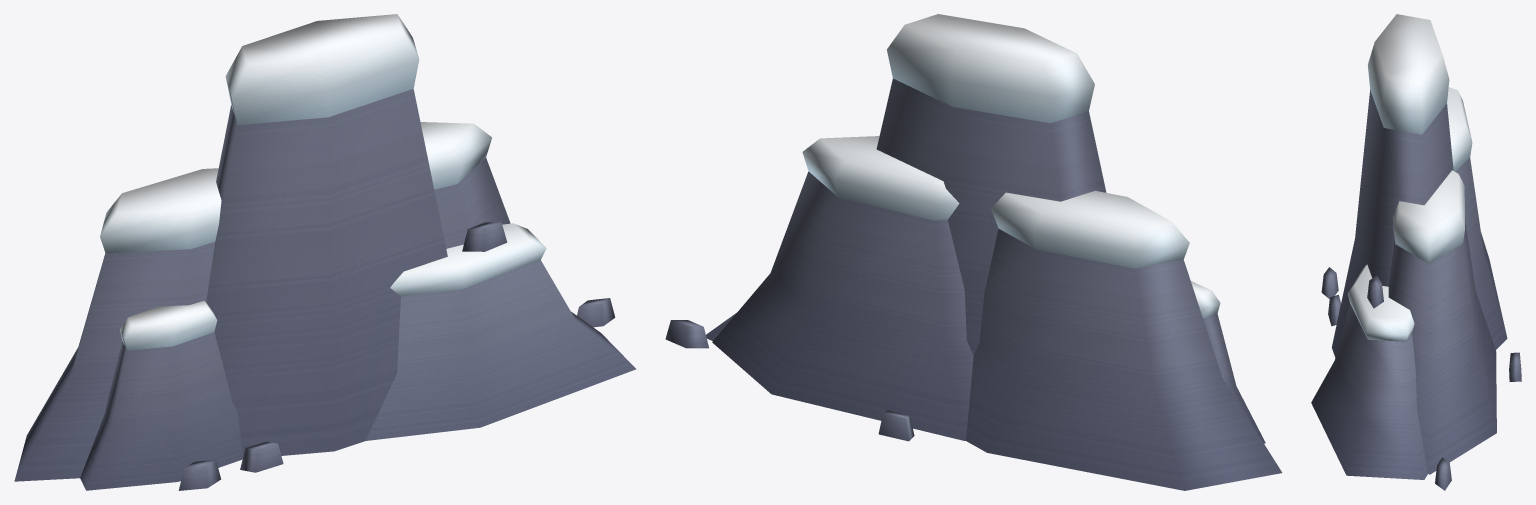
Rendered from tuong2.glb.
3 views of the same model, side by side, from view 1: azimuth 30°, elevation 25°; view 2: azimuth 150°, elevation 25°; view 3: azimuth 270°, elevation 25° (orthographic). The views are drawn at different scales.
Visible parts, largest first — view 1: rocks-medium.002; view 2: rocks-medium.002; view 3: rocks-medium.002.
Boxes of the visible parts, box(x1,y1,x2,y2) form: rocks-medium.002: box(14, 14, 636, 490); rocks-medium.002: box(665, 14, 1282, 490); rocks-medium.002: box(1311, 14, 1521, 490).
Bounding box in the file's own units: 4.93 × 2.82 × 1.72.
Materials: 1 (1 with a texture image).
